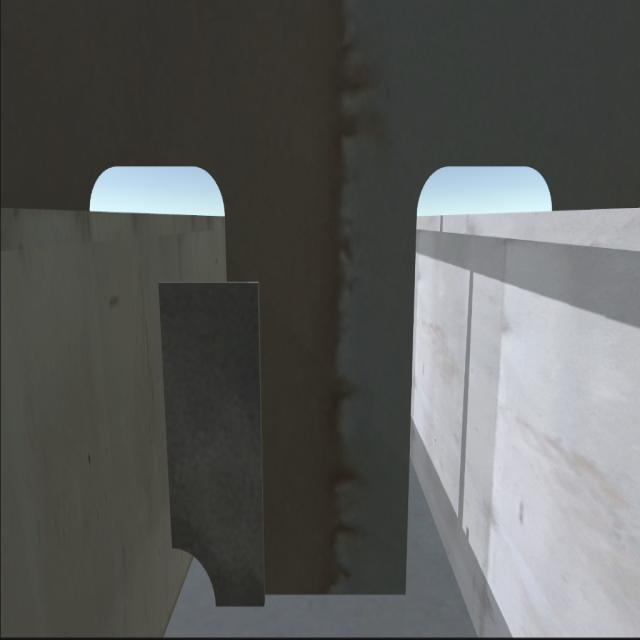fillet_hole: (171, 550, 218, 609)
fillet_yong_jeop_jang: (206, 582, 409, 614)
longi_yong_jeop_jang: (150, 278, 182, 552)
plate_CP01: (158, 279, 272, 610)
